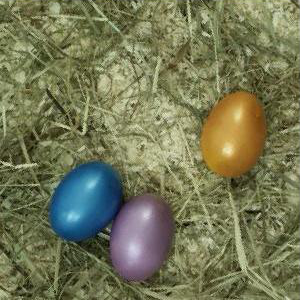egg: (50, 162, 121, 241), (109, 195, 173, 282), (202, 92, 266, 177)
